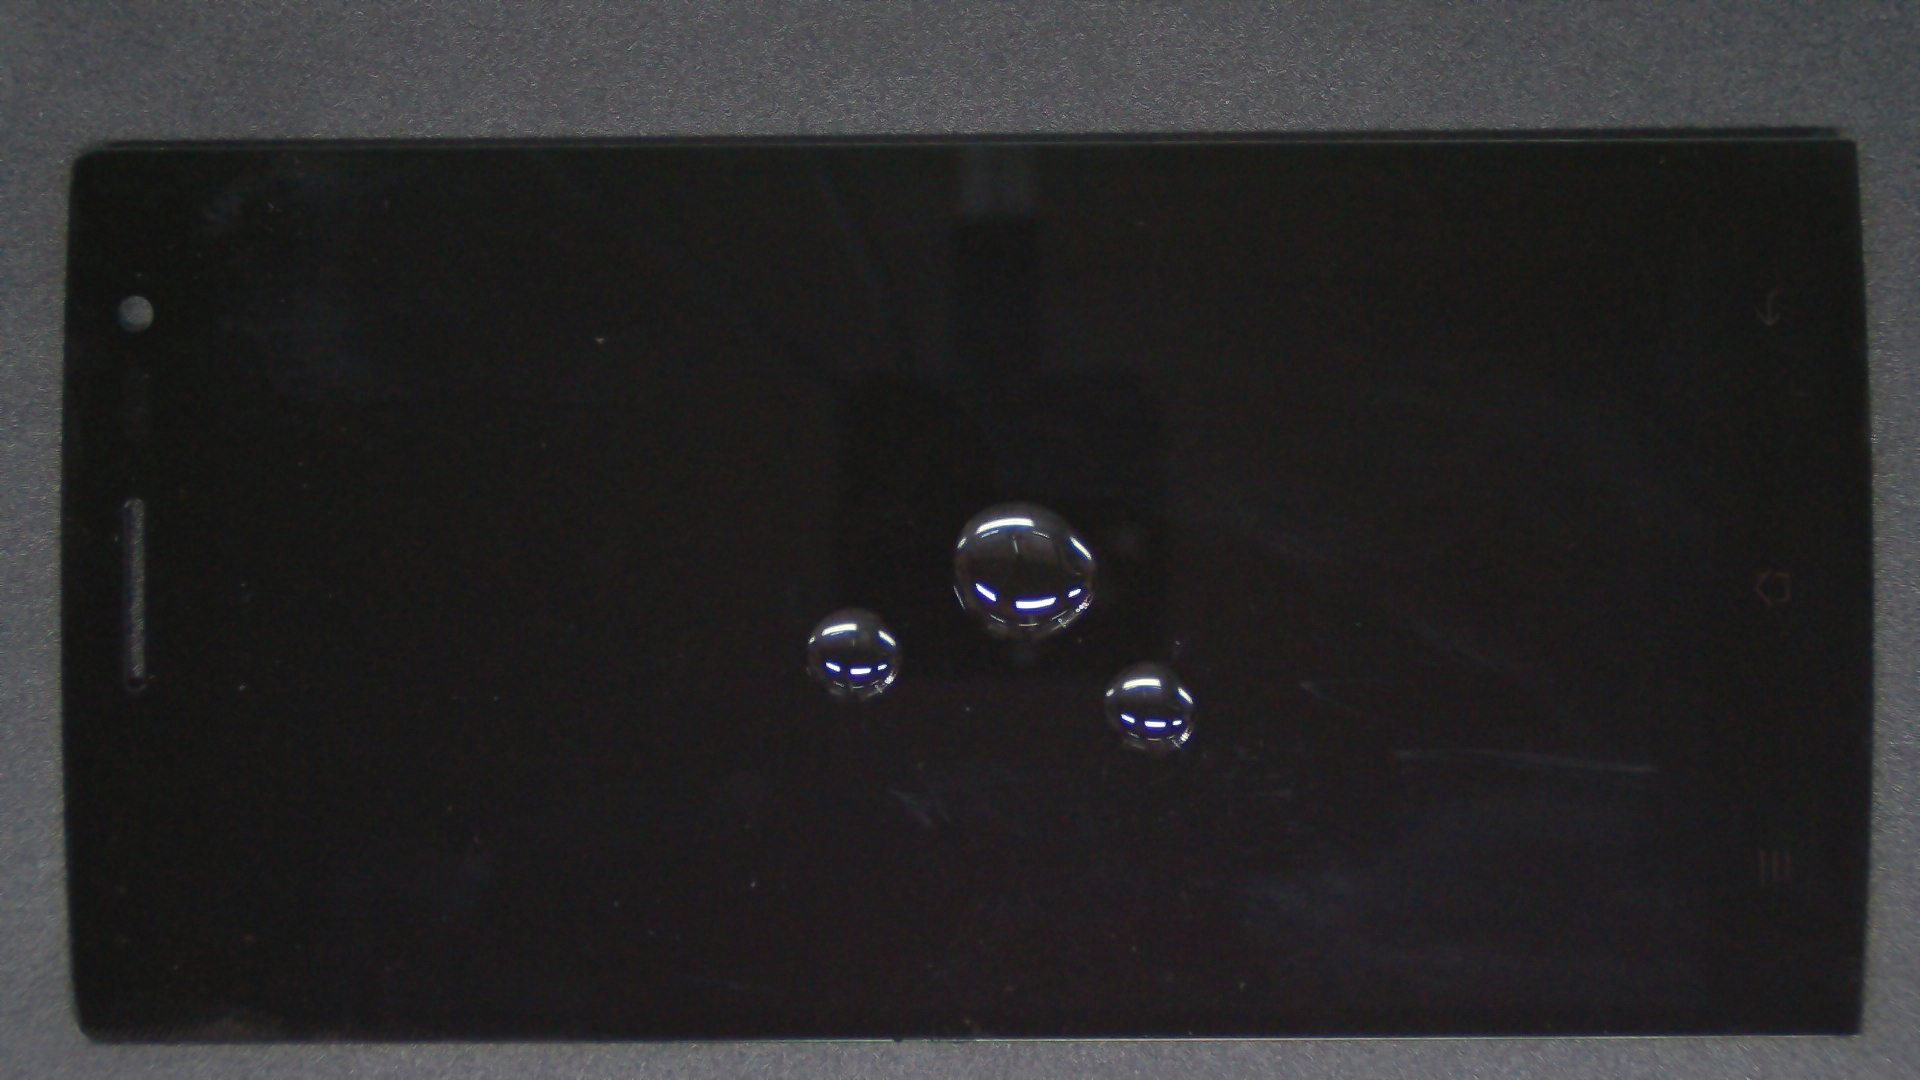oil: (574, 330, 1720, 992), (425, 303, 1271, 913), (502, 251, 1506, 753)
